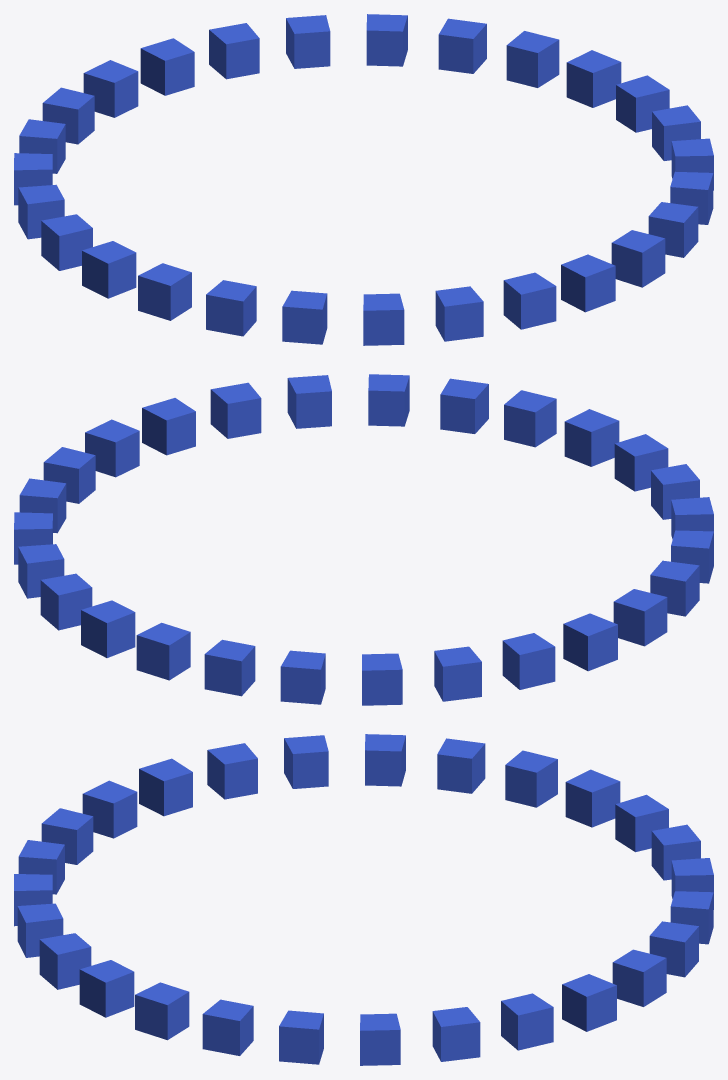
3 views of the same model, one above another, from view 1: azimuth 30°, elevation 25°; view 2: azimuth 150°, elevation 25°; view 3: azimuth 270°, elevation 25° (orthographic).
Parts seen in each view (by area): view 1: Cube; view 2: Cube; view 3: Cube.
Part boxes in pixels (x1,y1,x2,y2): Cube: (14,14,713,345); Cube: (14,374,713,705); Cube: (14,734,713,1065).
Bounding box in the file's own units: 429 × 23.61 × 427.
